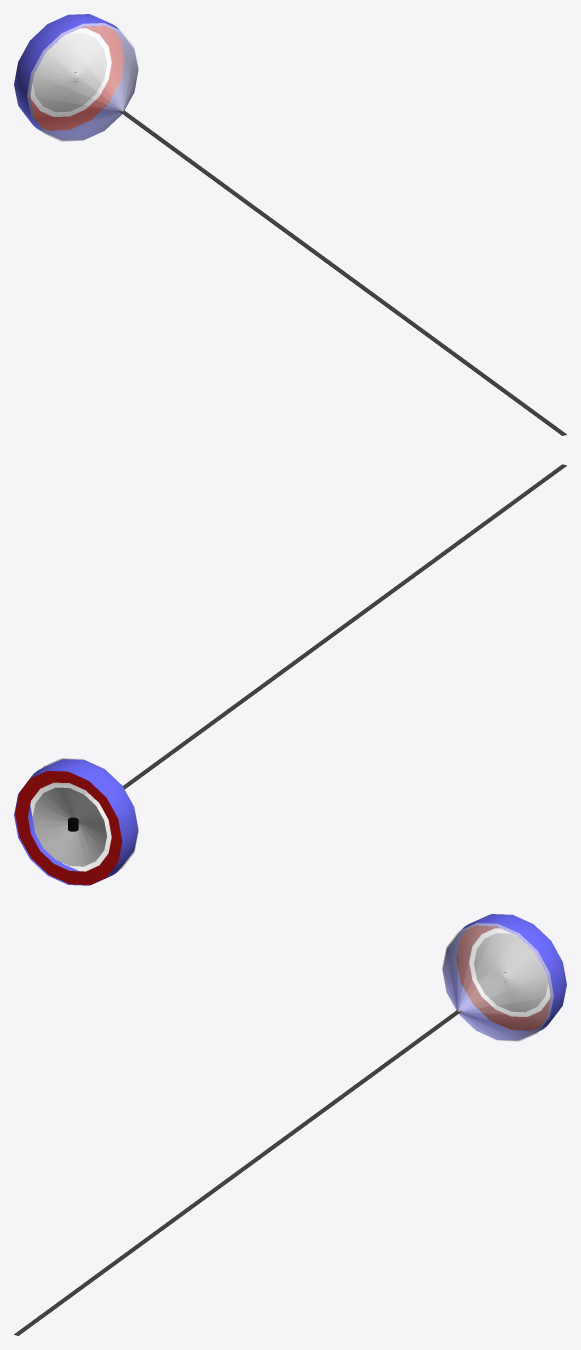
The model's file is bridalandpc.gltf.
3 views of the same model, one above another, from view 1: azimuth 30°, elevation 25°; view 2: azimuth 150°, elevation 25°; view 3: azimuth 330°, elevation 25° (orthographic).
Visible parts, largest first — view 1: pcglb, mesh_3, Box, mesh_4; view 2: mesh_3, pcglb, mesh_4, Box; view 3: pcglb, mesh_3, Box, mesh_4.
Boxes of the visible parts, x1,y1,x2,y2 form: pcglb: [14, 14, 138, 141]; mesh_3: [33, 33, 106, 111]; Box: [118, 109, 566, 435]; mesh_4: [30, 26, 124, 130]; mesh_3: [32, 787, 106, 866]; pcglb: [14, 758, 138, 885]; mesh_4: [15, 771, 122, 884]; Box: [123, 464, 566, 789]; pcglb: [442, 914, 566, 1041]; mesh_3: [474, 933, 547, 1011]; Box: [14, 1009, 462, 1335]; mesh_4: [456, 926, 550, 1030].
Size of the model in its own units: 0.48 by 0.48 by 3.69.
